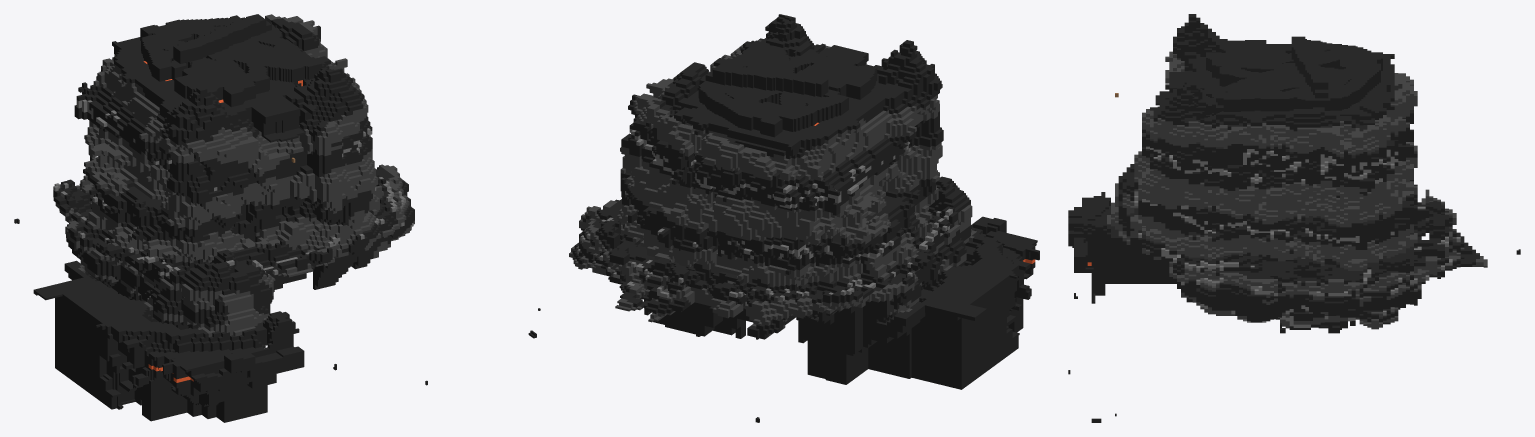
The model's file is Mainpart_lava_vox-4.obj.
3 views of the same model, side by side, from view 1: azimuth 30°, elevation 25°; view 2: azimuth 150°, elevation 25°; view 3: azimuth 270°, elevation 25° (orthographic). The views are drawn at different scales.
Bounding box in the file's own units: 24.1 × 16 × 23.3.
1 material, 1 textured.
